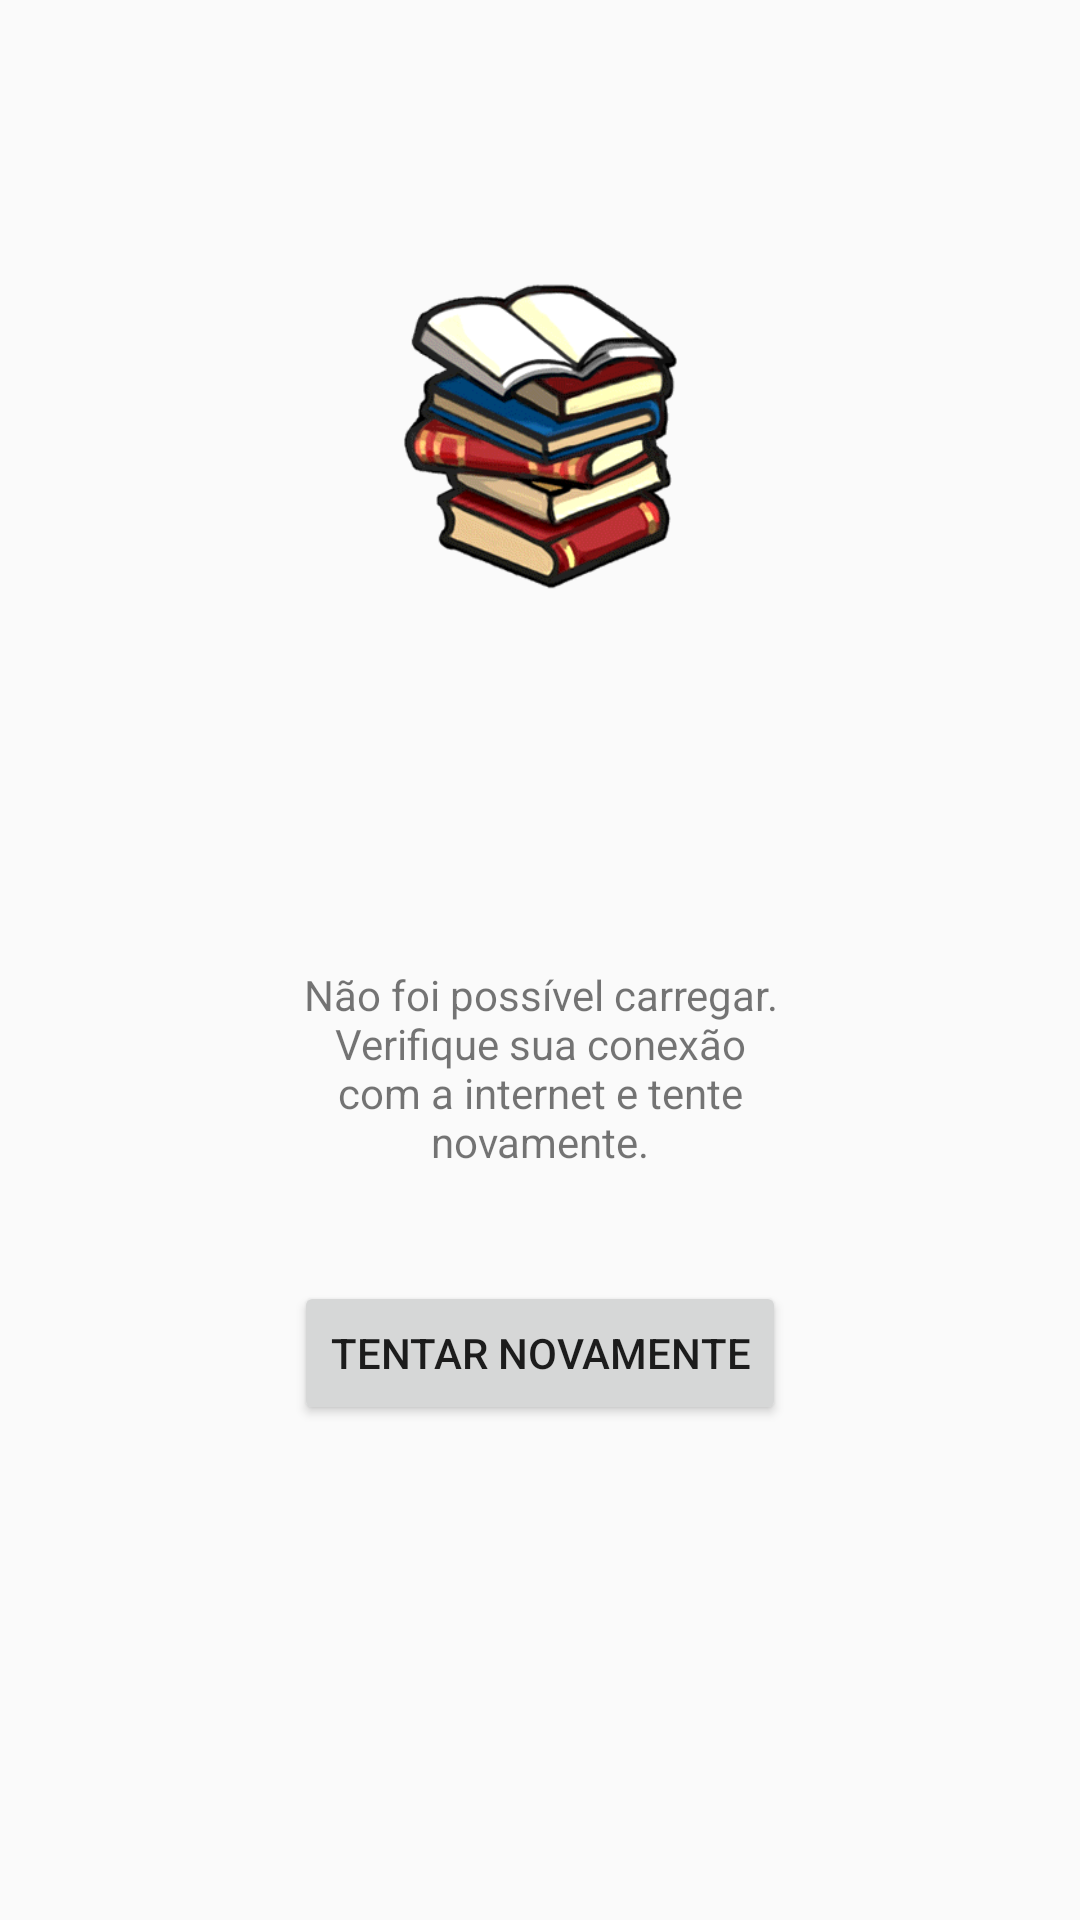

Icons on this 1080×1920 Android screen, each with its box as BBox(x1, y1, x2, y2):
Livros empilhados: BBox(404, 284, 677, 589)
